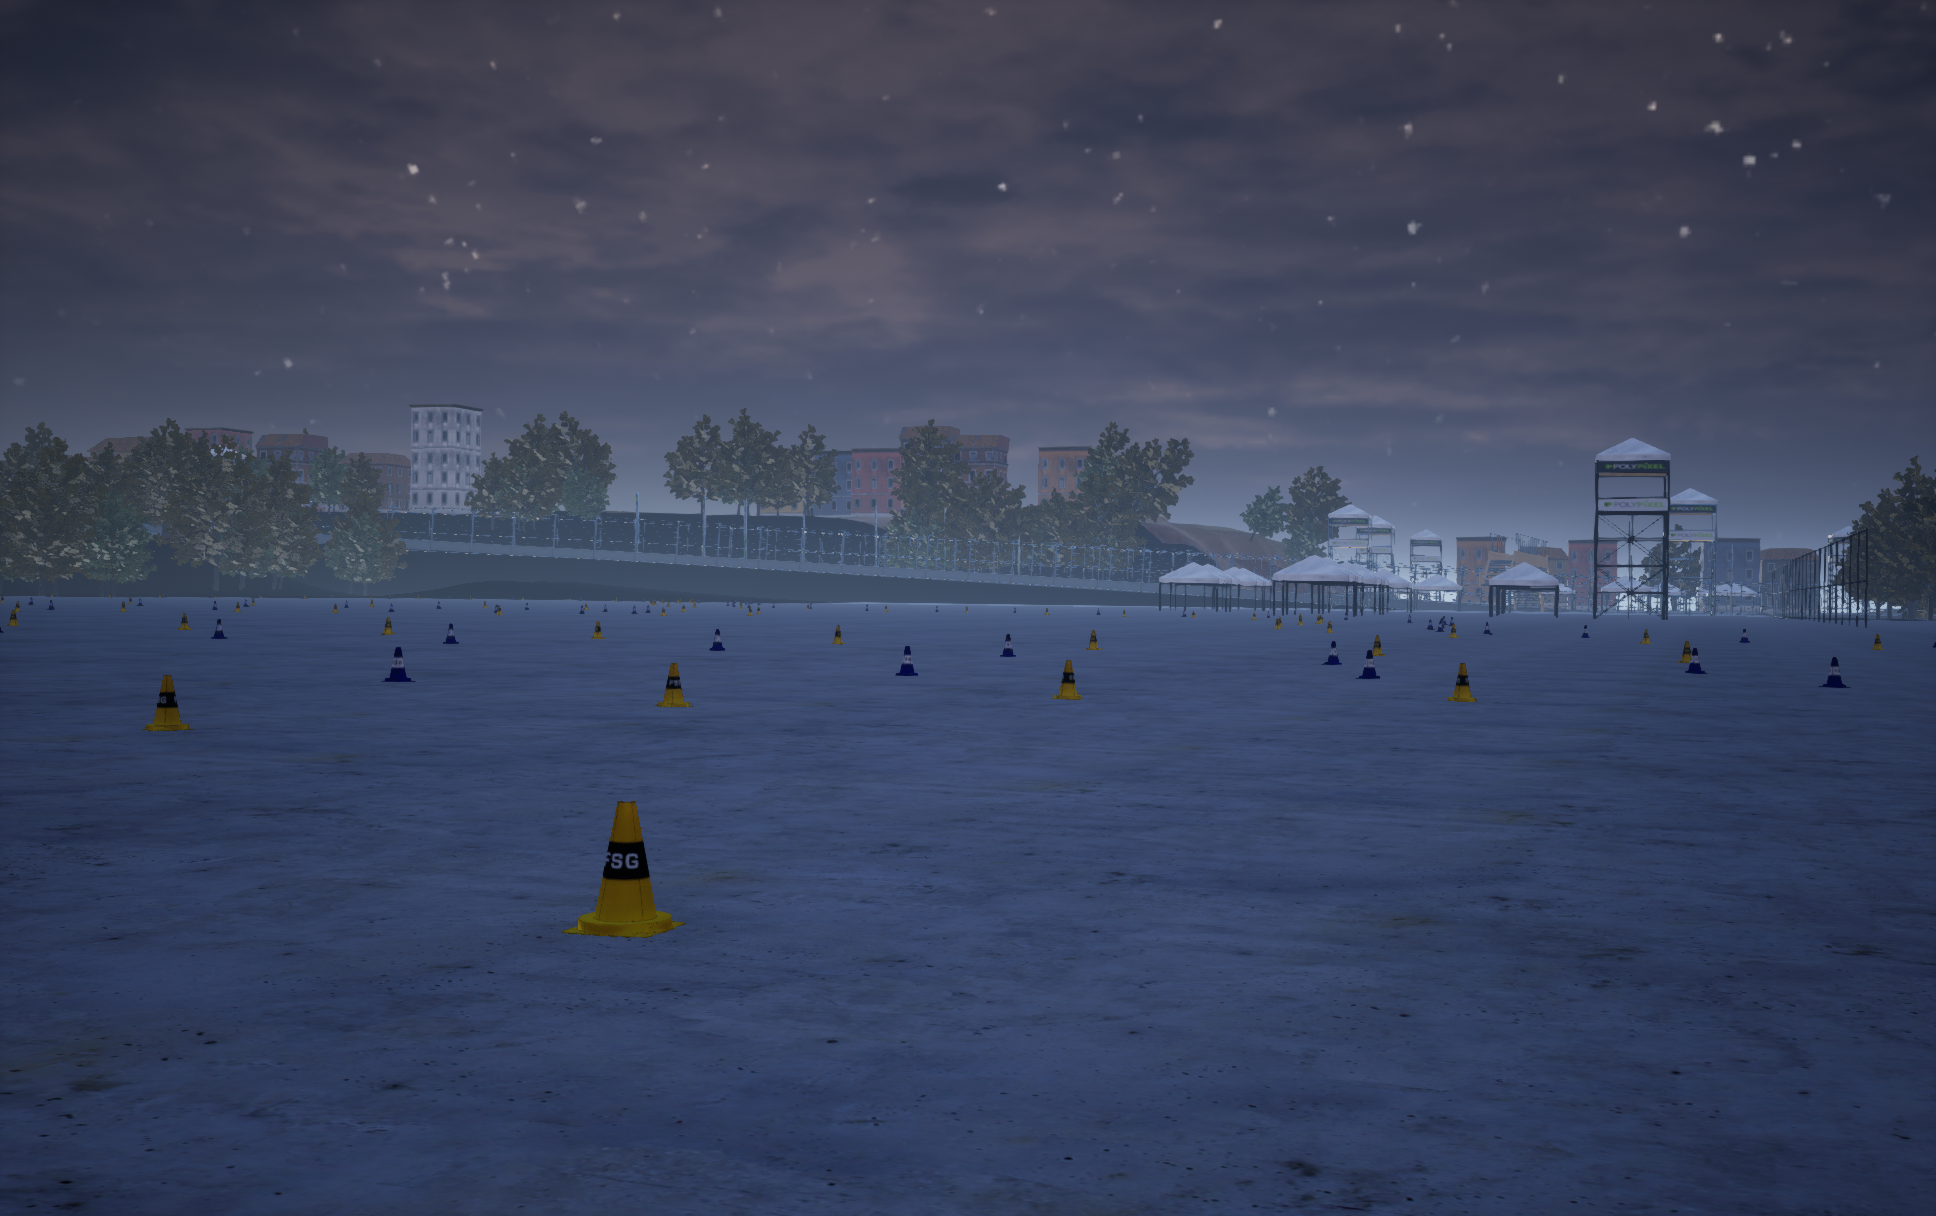blue: (562, 801, 685, 937), (141, 675, 193, 730), (654, 663, 693, 706), (1051, 660, 1083, 699), (1448, 663, 1477, 700), (1371, 635, 1384, 656), (1086, 630, 1100, 649), (831, 625, 843, 644), (1678, 642, 1689, 663), (591, 621, 604, 637)
yellow: (381, 647, 415, 681), (1818, 657, 1851, 686), (1355, 650, 1378, 678), (895, 646, 918, 675), (1685, 649, 1708, 672), (1321, 642, 1341, 664), (1000, 635, 1016, 656), (709, 629, 724, 650), (443, 623, 458, 643), (212, 619, 227, 637)
